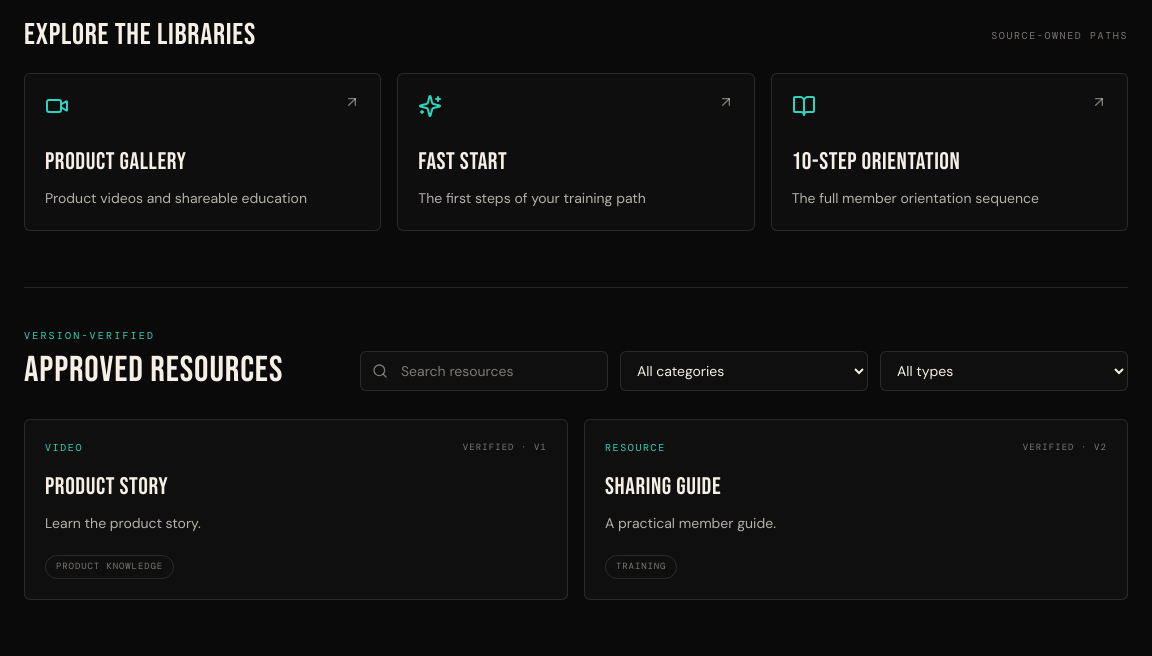
Test: Resource Center page › filters by category and resource type
(page scrolled)
expect the heading "Product Story" is shown: met, box [45,472,168,501]
Select "Training" in the 1st dropdown named "Filter by category" at (744, 371), box [620,351,868,391]
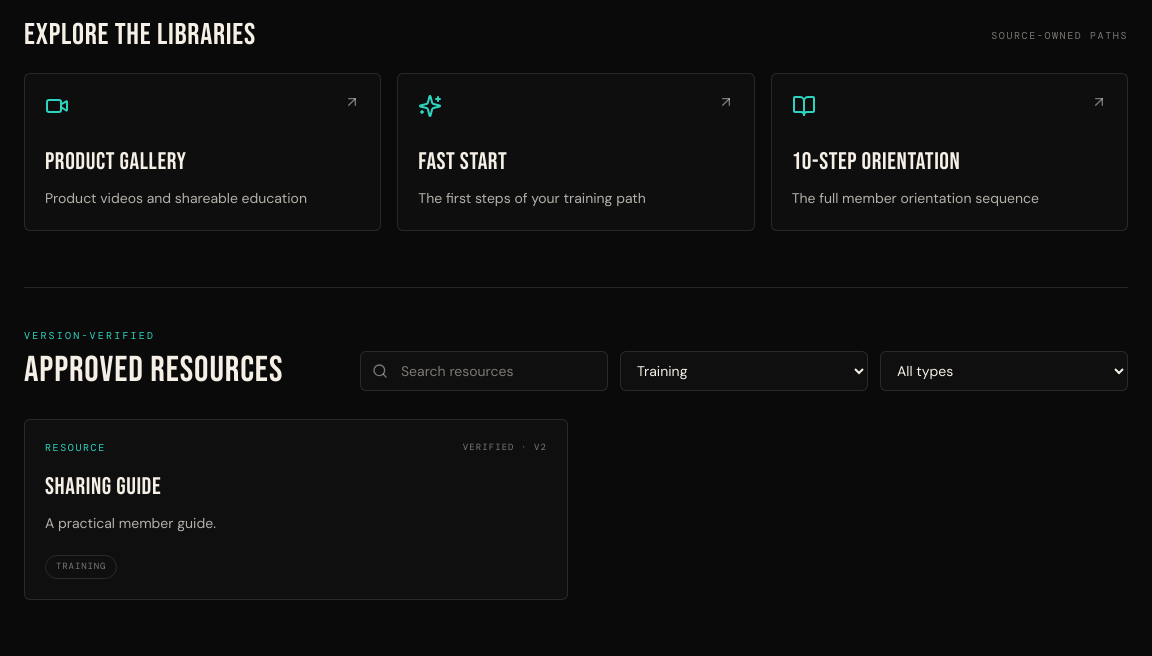
expect the heading "Sharing Guide" is shown: met, box [45,472,161,501]
expect the link "Product Story" is gone: met
Select "Video" in the 2nd dropdown named "Filter by resource type" at (1004, 371), box [880,351,1128,391]
(page scrolled)
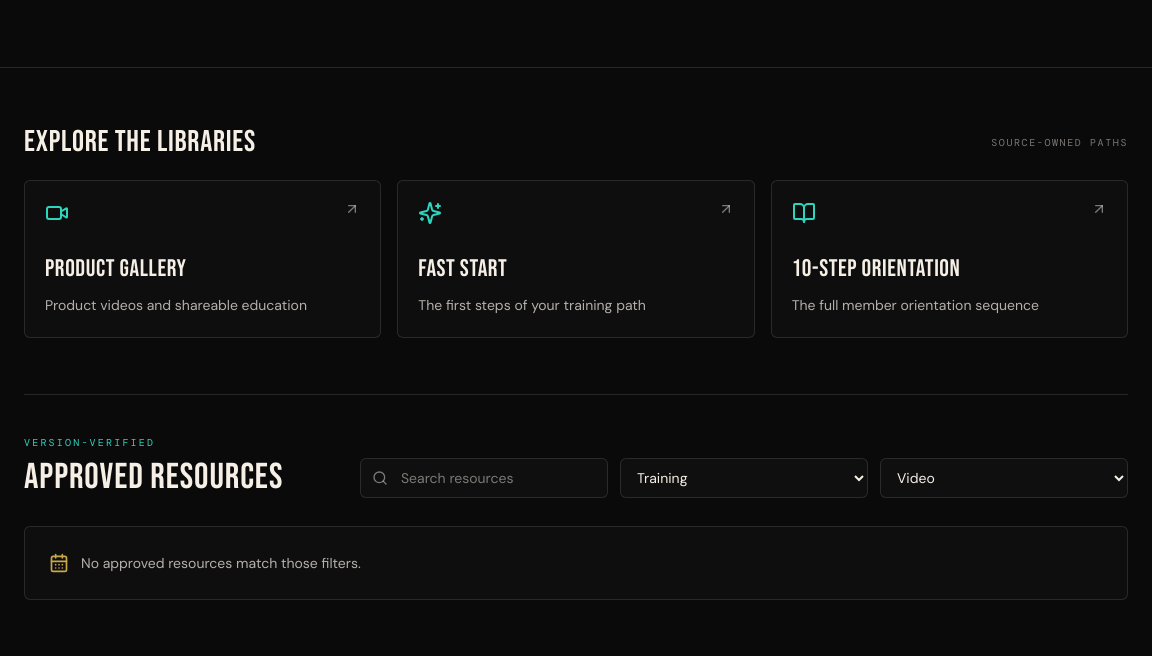
expect the text "No approved resources match those filters." is shown: met, box [81,551,361,575]
